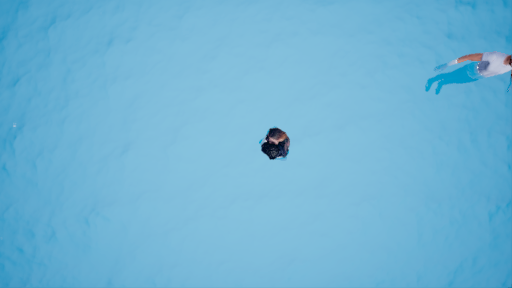person: (417, 47, 512, 93), (255, 126, 300, 162)
